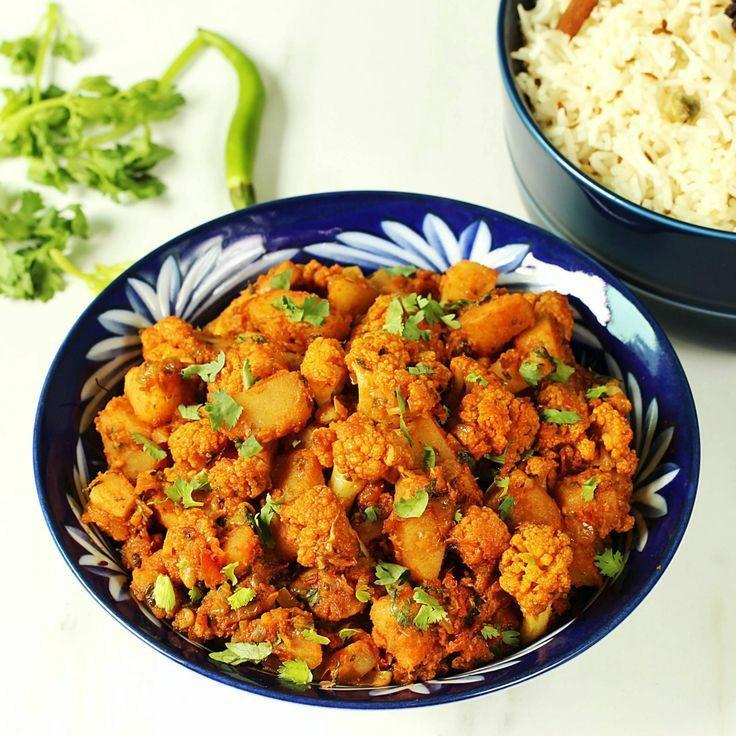AlooGobi: (83, 259, 639, 684)
WhiteRice: (510, 0, 736, 232)
